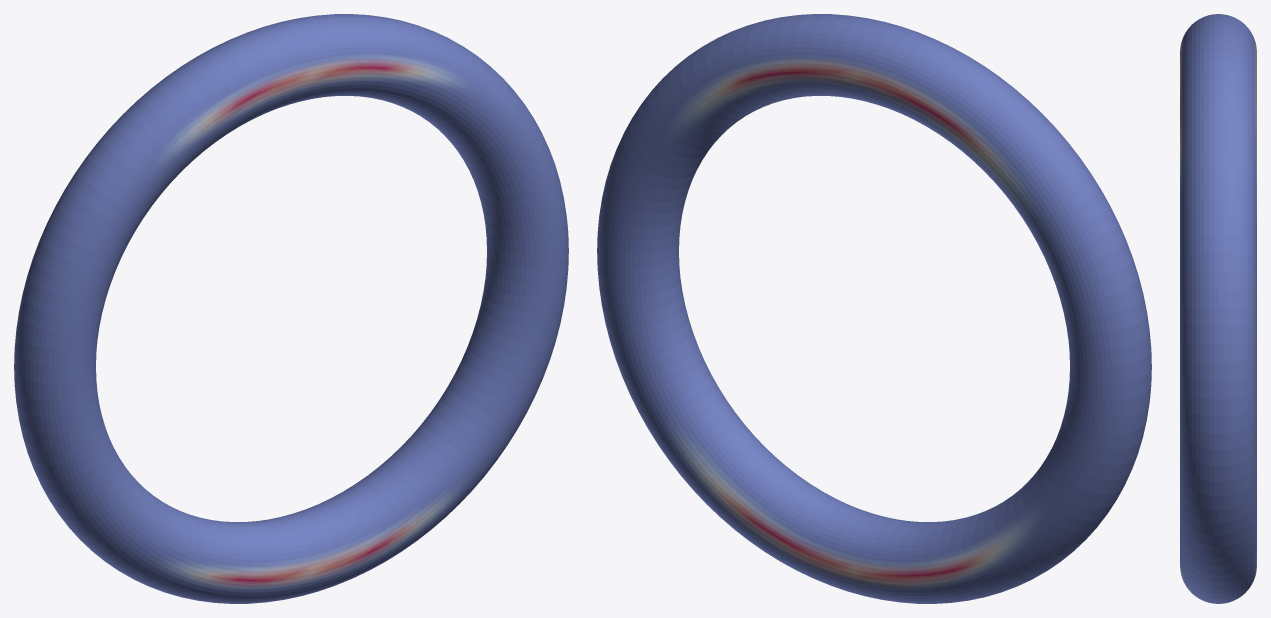
The picture shows the model from 3 angles, left to right: view 1: azimuth 30°, elevation 25°; view 2: azimuth 150°, elevation 25°; view 3: azimuth 270°, elevation 25°; orthographic projection. The views are drawn at different scales.
Parts seen in each view (by area): view 1: world; view 2: world; view 3: world.
Boxes of the visible parts, left/top/right/bottom form: world: left=14, top=14, right=568, bottom=603; world: left=597, top=14, right=1151, bottom=603; world: left=1180, top=14, right=1256, bottom=603.
Bounding box in the file's own units: 15.33 × 15.33 × 2.
